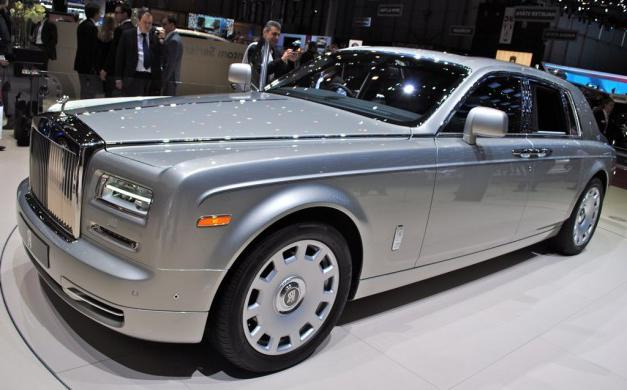Car: (1, 42, 623, 390)
